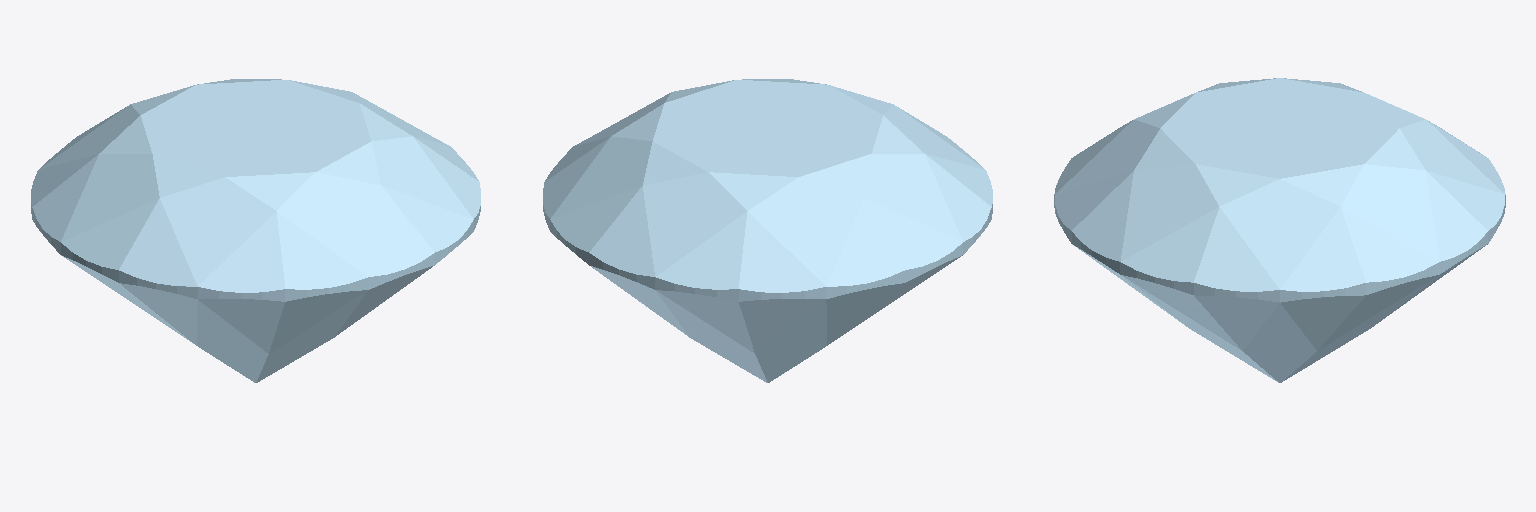
Rendered from Diamond_Low_Poly.obj.
The picture shows the model from 3 angles: view 1: azimuth 30°, elevation 25°; view 2: azimuth 150°, elevation 25°; view 3: azimuth 270°, elevation 25°; orthographic projection.
Parts seen in each view (by area): view 1: Diamond_-_Brilliant_Cut_dmesh; view 2: Diamond_-_Brilliant_Cut_dmesh; view 3: Diamond_-_Brilliant_Cut_dmesh.
Part boxes in pixels (left/top/right/bottom): Diamond_-_Brilliant_Cut_dmesh: left=31, top=79, right=480, bottom=382; Diamond_-_Brilliant_Cut_dmesh: left=543, top=79, right=992, bottom=382; Diamond_-_Brilliant_Cut_dmesh: left=1054, top=78, right=1505, bottom=382.
Size of the model in its own units: 2 by 1.25 by 2.